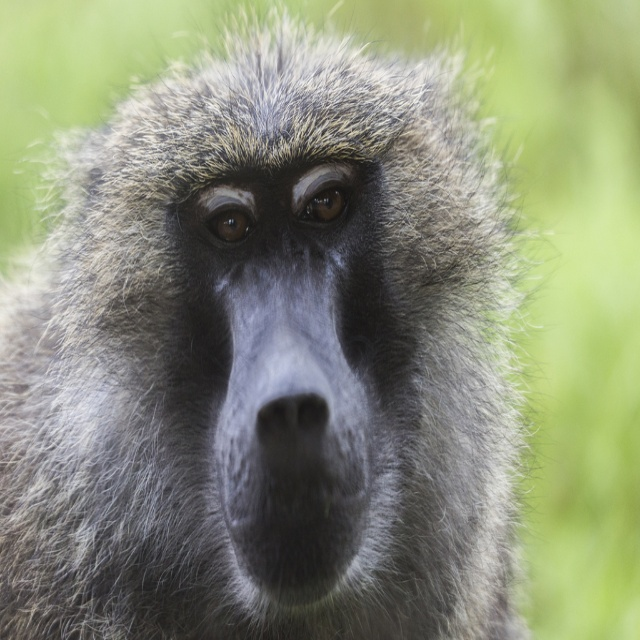Monkey: (0, 3, 569, 640)
